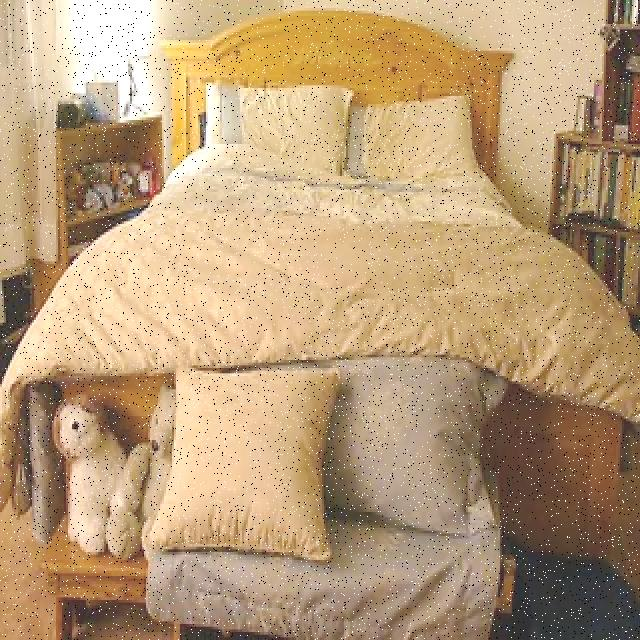bed: (33, 27, 614, 412)
